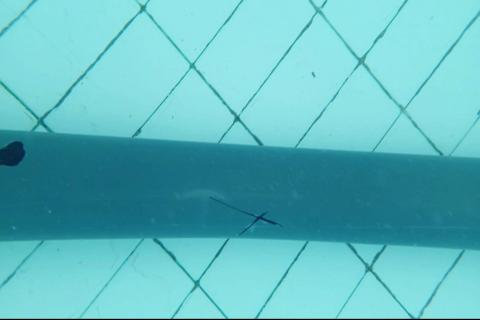kebocoran: (0, 139, 28, 169)
keretakan: (209, 195, 286, 236)
